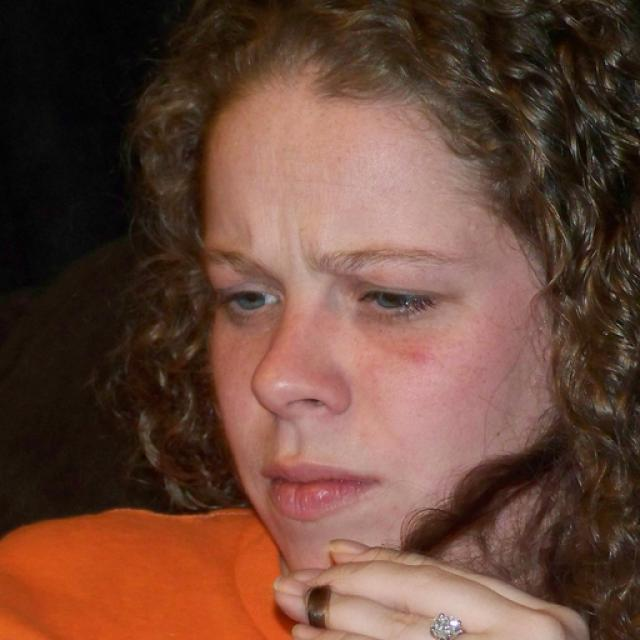sad: (203, 88, 562, 582)
